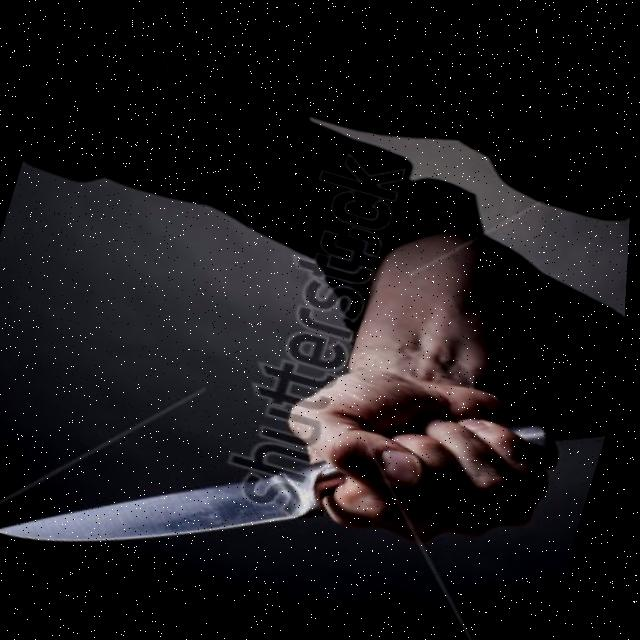knife: (0, 380, 343, 629)
